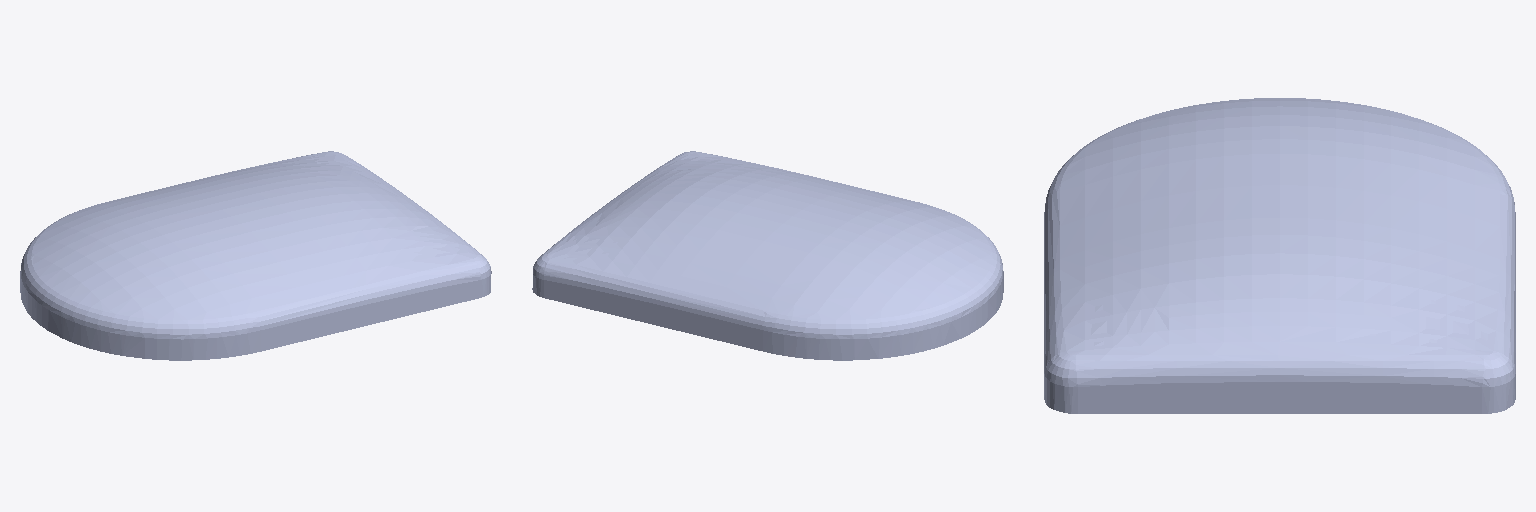
URDF robot description (digit_asmb_hollow):
<?xml version="1.0" encoding="utf-8"?>
<!-- This URDF was automatically created by SolidWorks to URDF Exporter! Originally created by [author] ([email redacted]) 
     Commit Version: 1.6.0-1-g15f4949  Build Version: 1.6.7594.29634
     For more information, please see http://wiki.ros.org/sw_urdf_exporter -->
<robot
  name="digit_asmb_hollow">
  <link
    name="digit_body">
    <inertial>
      <origin
        xyz="0.00443338071044421 -4.96453153071514E-09 -0.0140914049333968"
        rpy="0 0 0" />
      <mass
        value="0.0077837104153161" />
      <inertia
        ixx="7.77176839696665E-07"
        ixy="2.21347841672606E-13"
        ixz="-5.52554519832782E-09"
        iyy="1.05613167218354E-06"
        iyz="8.96409493626059E-14"
        izz="1.5788930001559E-06" />
    </inertial>
    <visual>
      <origin
        xyz="0 0 0"
        rpy="0 0 0" />
      <geometry>
        <mesh
          filename="package://digit_asmb_hollow/meshes/digit_body.STL" />
      </geometry>
      <material
        name="">
        <color
          rgba="0.792156862745098 0.819607843137255 0.933333333333333 1" />
      </material>
    </visual>
    <collision>
      <origin
        xyz="0 0 0"
        rpy="0 0 0" />
      <geometry>
        <mesh
          filename="package://digit_asmb_hollow/meshes/digit_body.STL" />
      </geometry>
    </collision>
  </link>
  <link
    name="digit_core">
    <inertial>
      <origin
        xyz="8.80662262390675E-05 0.0057733376322969 -0.00668915938459673"
        rpy="0 0 0" />
      <mass
        value="1.15850364457513E-05" />
      <inertia
        ixx="6.58318988294795E-10"
        ixy="1.53419017022263E-13"
        ixz="-6.74188292442429E-13"
        iyy="4.01828099810043E-10"
        iyz="-4.42224232143225E-12"
        izz="1.03111516097338E-09" />
    </inertial>
    <visual>
      <origin
        xyz="0 0 0"
        rpy="0 0 0" />
      <geometry>
        <mesh
          filename="package://digit_asmb_hollow/meshes/digit_core.STL" />
      </geometry>
      <material
        name="">
        <color
          rgba="0.792156862745098 0.819607843137255 0.933333333333333 1" />
      </material>
    </visual>
    <collision>
      <origin
        xyz="0 0 0"
        rpy="0 0 0" />
      <geometry>
        <mesh
          filename="package://digit_asmb_hollow/meshes/digit_core.STL" />
      </geometry>
    </collision>
  </link>
  <joint
    name="digit_body_core_link"
    type="fixed">
    <origin
      xyz="-0.00151521951809463 -1.36251105150219E-05 -0.00415"
      rpy="-3.14159265358979 0 1.5707963267949" />
    <parent
      link="digit_body" />
    <child
      link="digit_core" />
    <axis
      xyz="0 0 0" />
  </joint>
</robot>

--- What the picture shows (computed from the rendered views, not written in the file) ---
Views: 3 orthographic renders of the robot side by side, from view 1: azimuth 30°, elevation 25°; view 2: azimuth 150°, elevation 25°; view 3: azimuth 270°, elevation 25°.
Model digit_asmb_hollow with 2 links and 1 joints (1 fixed), rooted at digit_body, posed every joint at zero.
Visible links, largest first — view 1: digit_core; view 2: digit_core; view 3: digit_core.
Boxes of the visible links, x1,y1,x2,y2 form: digit_core: (20, 151, 491, 360); digit_core: (532, 151, 1003, 360); digit_core: (1044, 98, 1515, 413).
Size in the robot's own frame: 0.025 by 0.0184 by 0.0041 metres.
1 mesh visuals loaded from 2 distinct referenced files (1 binary STL); not drawn: 1 (reference not matched to a file when rendering).